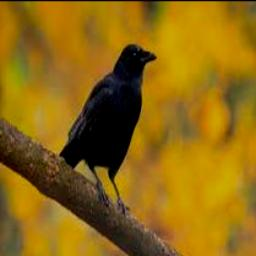Crow: (58, 44, 157, 217)
